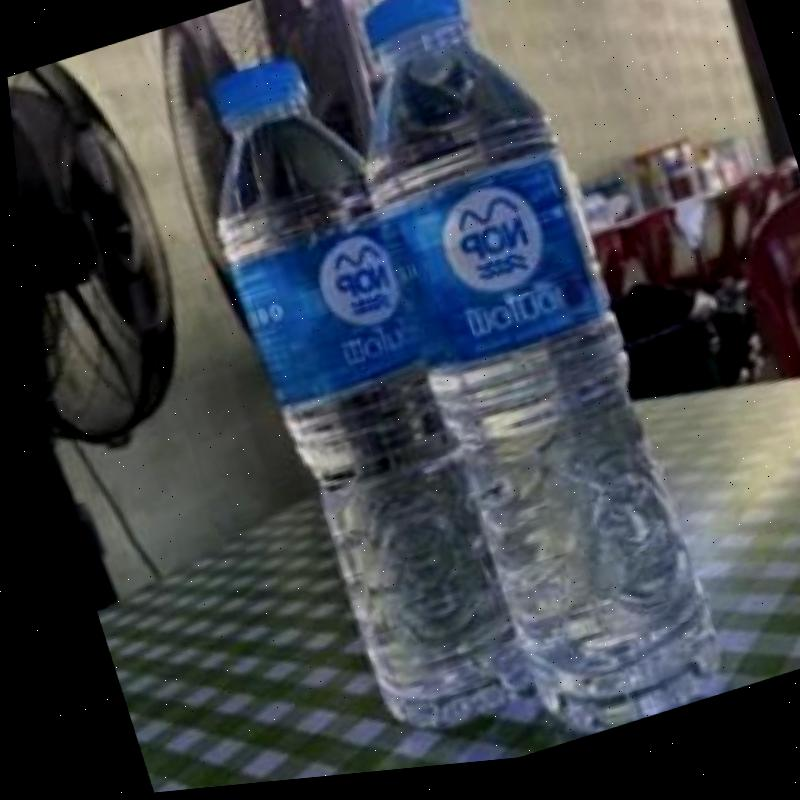botella: (308, 0, 633, 475), (164, 41, 448, 515)
